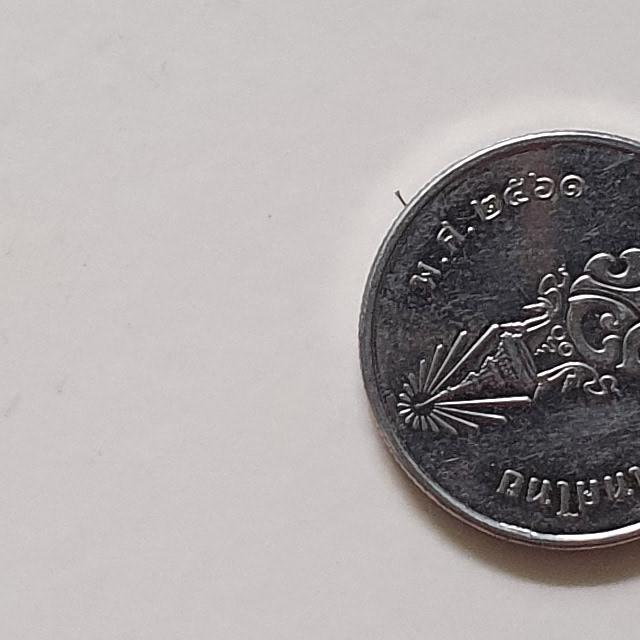1 Bath: (355, 118, 640, 562)
